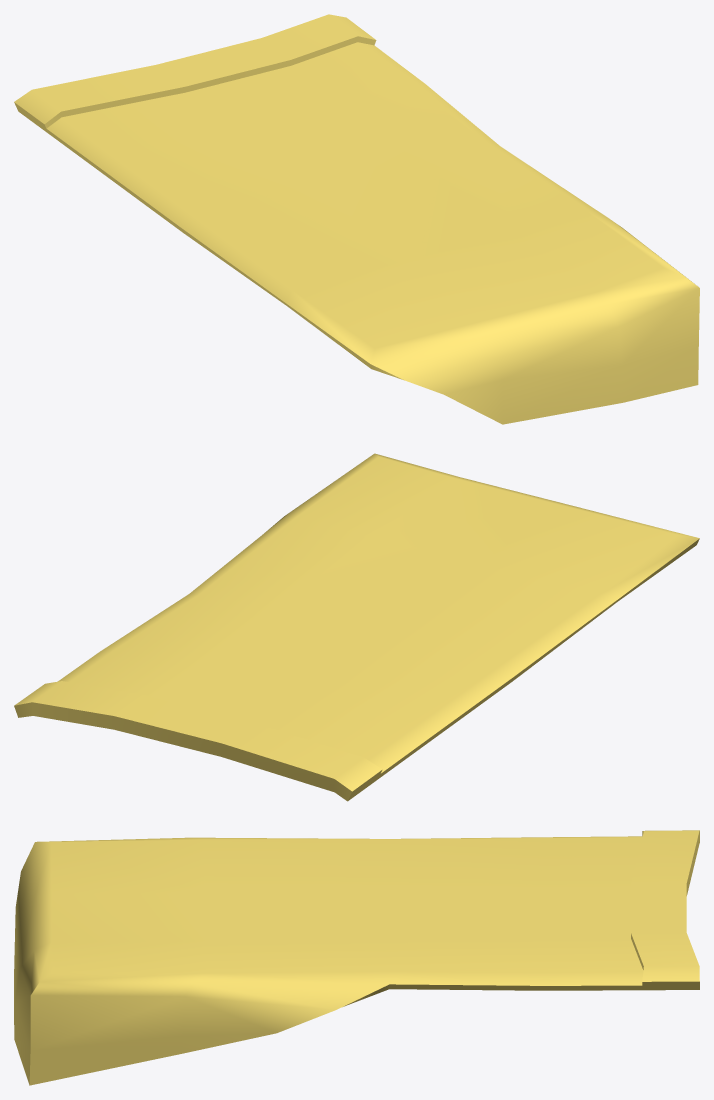
File: Childroom2_Blanket.fbx
The picture shows the model from 3 angles, top to bottom: view 1: azimuth 30°, elevation 25°; view 2: azimuth 150°, elevation 25°; view 3: azimuth 270°, elevation 25°; orthographic projection. The views are drawn at different scales.
Parts seen in each view (by area): view 1: Childroom2_Blanket; view 2: Childroom2_Blanket; view 3: Childroom2_Blanket.
Boxes of the visible parts, <box> form: Childroom2_Blanket: <box>14,14,699,424</box>; Childroom2_Blanket: <box>14,453,699,801</box>; Childroom2_Blanket: <box>14,830,699,1085</box>.
Bounding box in the file's own units: 146 × 48.24 × 267.
